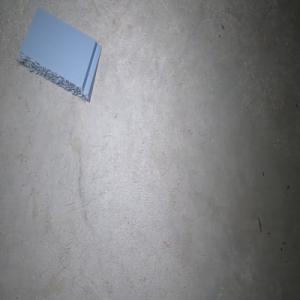PlasticPart: (16, 7, 102, 102)
